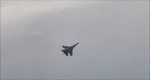maybay_muctieu: (61, 41, 79, 59)
